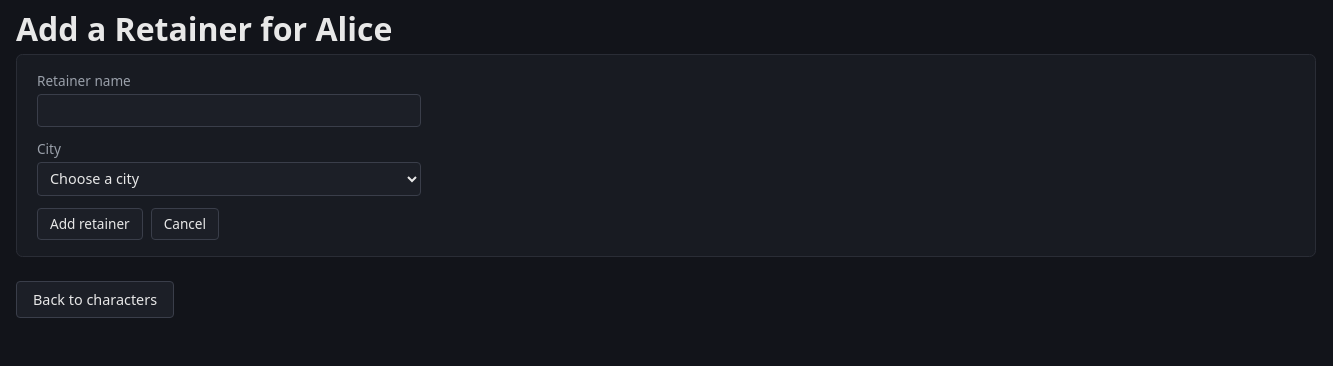
AddRetainerContainer › should stay put saying something went wrong when adding fails outright
In the field labelled "Retainer name": {"x": 229, "y": 110} [37, 94, 421, 127], type "Amarana"
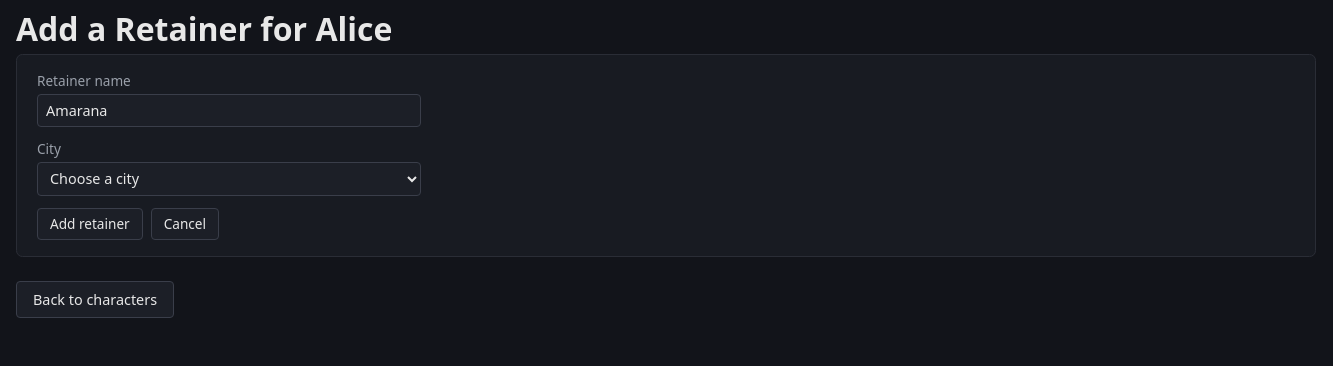
Select "Ul'dah" in the dropdown labelled "City": {"x": 229, "y": 179} [37, 162, 421, 196]
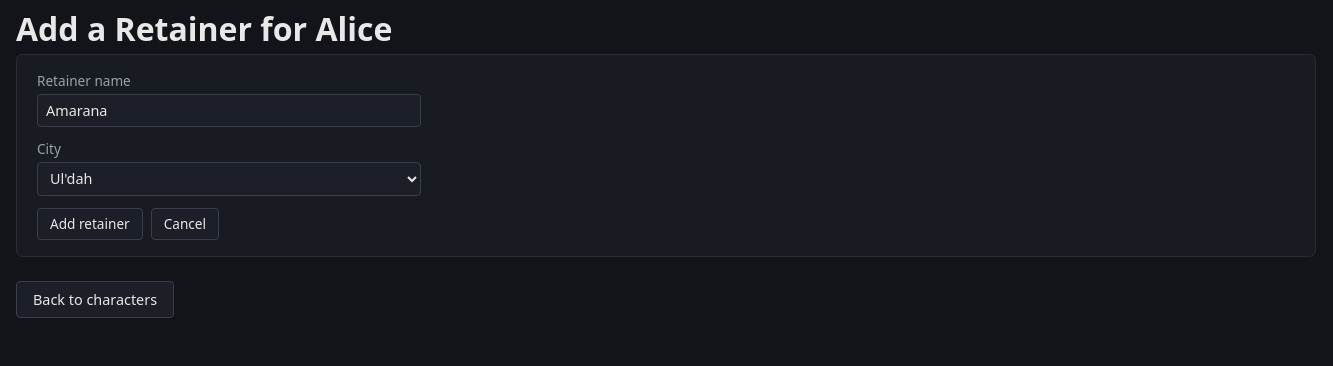
Click the button "Add retainer": {"x": 90, "y": 224} [37, 208, 143, 240]
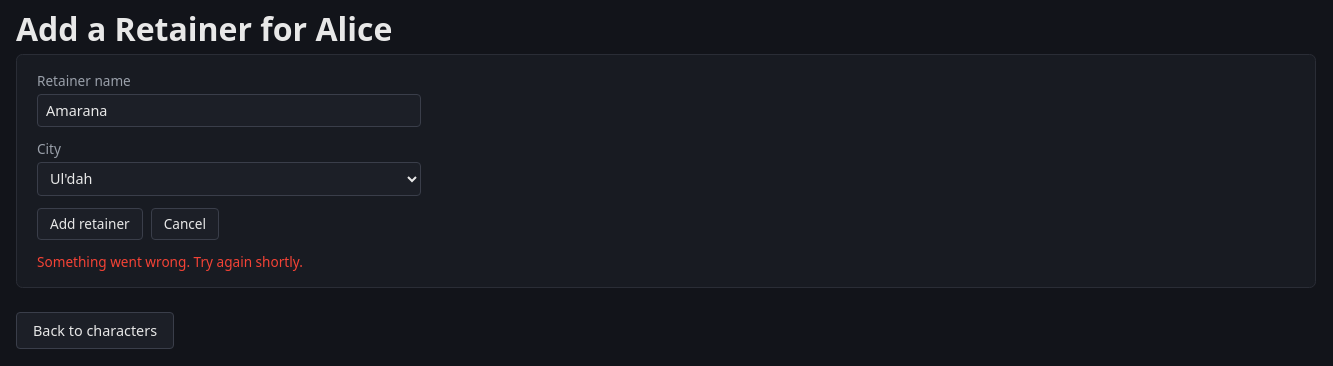
Now the message reads "Something went wrong. Try again shortly.", box [37, 252, 303, 271]
